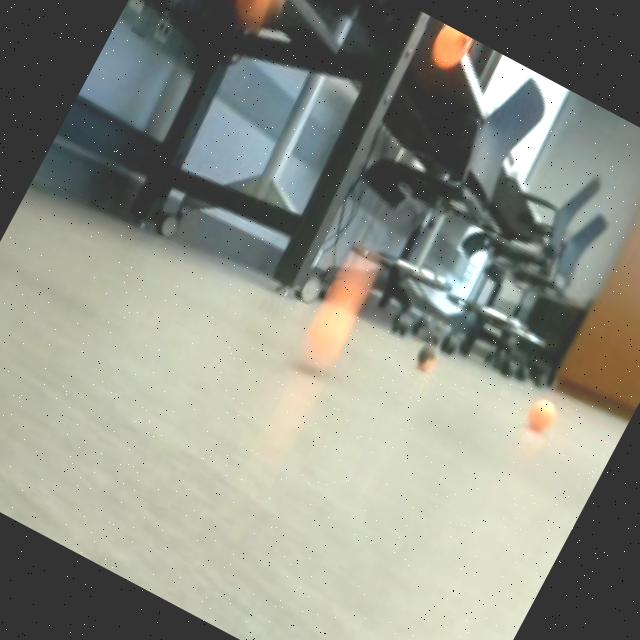ping-pong-ball: (286, 278, 372, 378), (411, 18, 479, 82), (211, 0, 308, 37), (516, 389, 565, 442)
